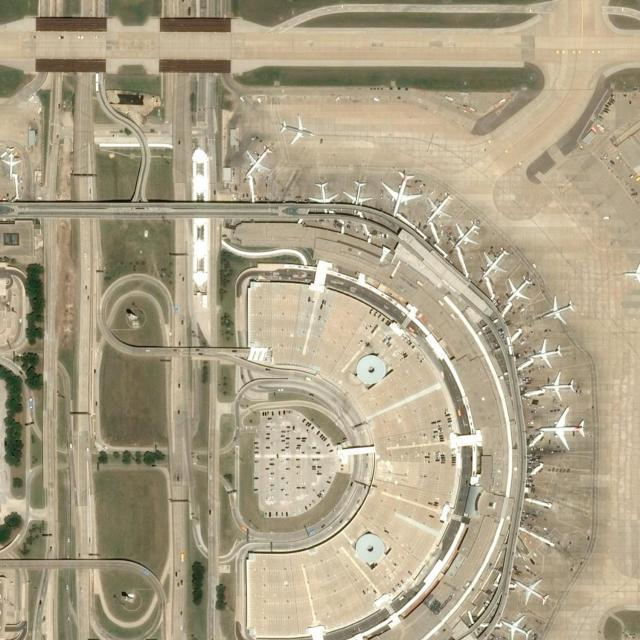Aircraft: (534, 407, 589, 448), (382, 170, 422, 212), (513, 575, 553, 605), (540, 371, 580, 400), (278, 115, 316, 145), (539, 292, 575, 322), (424, 188, 454, 224), (480, 247, 512, 279), (240, 146, 272, 178), (342, 177, 372, 211), (527, 339, 565, 365), (503, 274, 535, 304), (450, 219, 482, 249), (500, 616, 534, 640), (311, 179, 336, 208), (1, 147, 20, 173)
